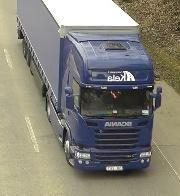Truck: (16, 0, 162, 173)
